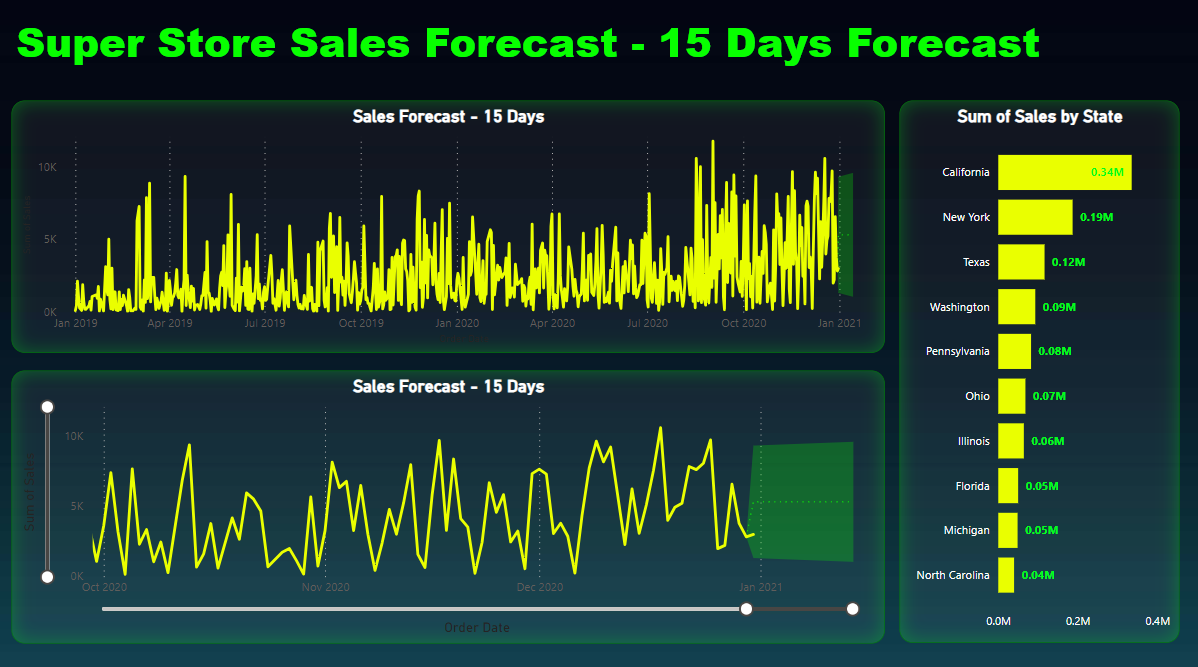

Layout of this report page (visuals, bound fields, positions):
{"tool":"powerbi","page":{"name":"Forecasting","canvas":[1280,720],"ordinal":1},"visuals":[{"type":"lineChart","title":"Sales Forecast - 15 Days","fields":{"Y":["Sum(SuperStore_Sales_Dataset.Sales)"],"Category":["SuperStore_Sales_Dataset.Order Date"]},"box":[17.5,112.8,925,267],"z":0},{"type":"lineChart","title":"Sales Forecast - 15 Days","fields":{"Y":["Sum(SuperStore_Sales_Dataset.Sales)"],"Category":["SuperStore_Sales_Dataset.Order Date"]},"box":[17.5,398.9,925,289.3],"z":1000},{"type":"textbox","box":[17.5,14.3,1190.5,81.1],"z":1001},{"type":"barChart","fields":{"Category":["SuperStore_Sales_Dataset.State"],"Y":["Sum(SuperStore_Sales_Dataset.Sales)"]},"box":[958.1,113.4,296.7,574.5],"z":1002}]}

Visuals, with their boxes in screenshot pixels (x1, y1, x2, y2), scaled from the page's 1280x720 canvas onto the 1198x667 screenshot:
"Sales Forecast - 15 Days" lineChart: box=[16, 104, 882, 352]
"Sales Forecast - 15 Days" lineChart: box=[16, 370, 882, 638]
textbox: box=[16, 13, 1131, 88]
barChart - SuperStore_Sales_Dataset.State x Sum(SuperStore_Sales_Dataset.Sales): box=[897, 105, 1174, 637]
